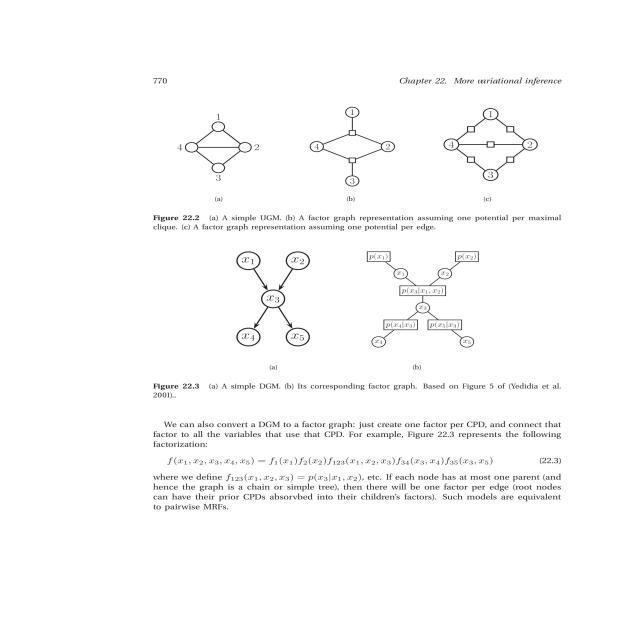diagram: (110, 232, 610, 405), (108, 239, 609, 401), (109, 96, 591, 236), (109, 235, 119, 240)
